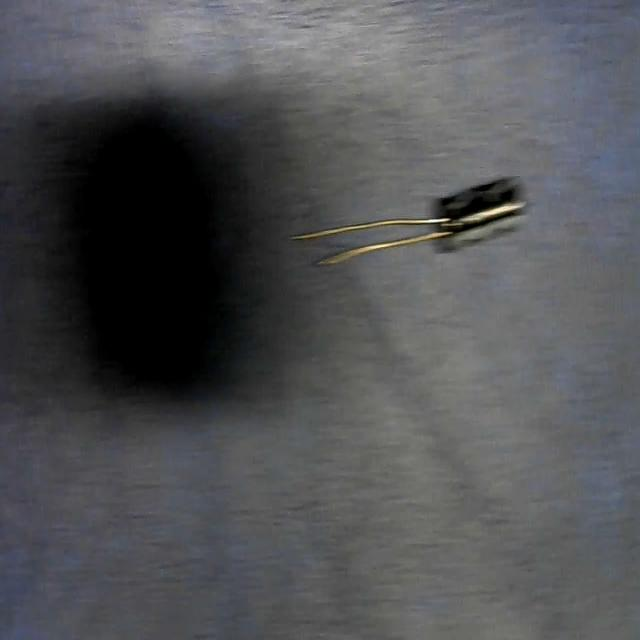capacitor: (290, 178, 528, 274)
